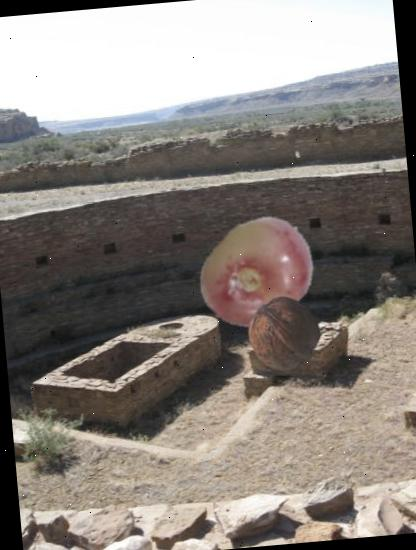Cherry: (193, 208, 324, 338)
Walnut: (244, 295, 324, 374)
